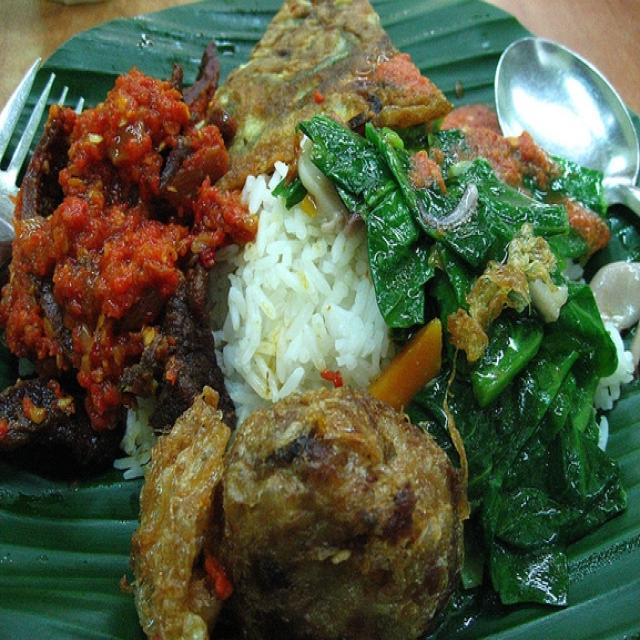米饭主食: (10, 15, 611, 612)
